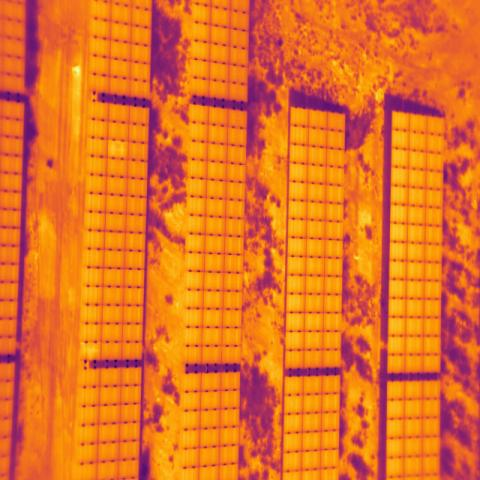fault: (80, 343, 101, 361), (108, 141, 128, 159)
